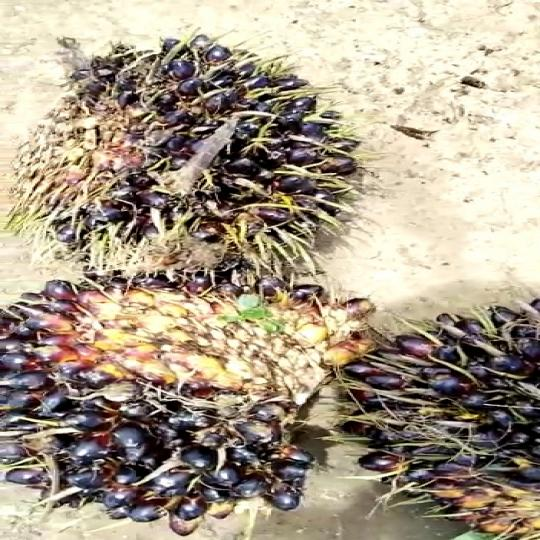mentah: (0, 265, 377, 526), (28, 28, 359, 280)
